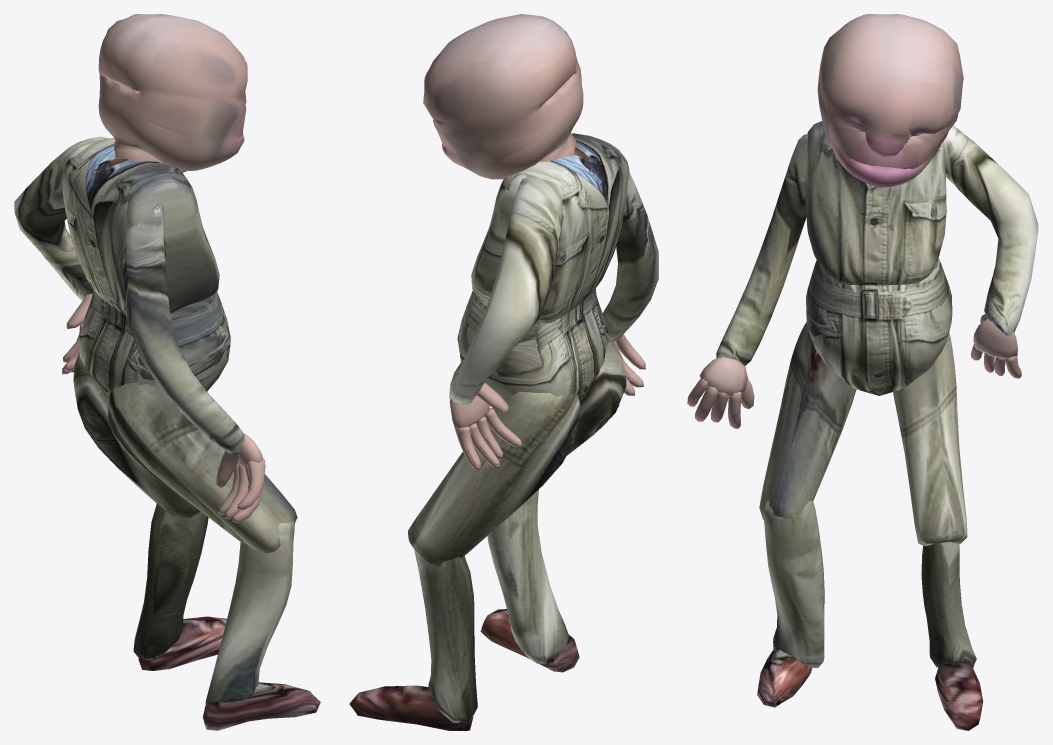
The model's file is SM_Albin00.fbx.
3 views of the same model, side by side, from view 1: azimuth 30°, elevation 25°; view 2: azimuth 150°, elevation 25°; view 3: azimuth 270°, elevation 25° (orthographic). The views are drawn at different scales.
Visible parts, largest first — view 1: SM_Albin00, SM_Amir00.013; view 2: SM_Albin00, SM_Amir00.013; view 3: SM_Albin00, SM_Amir00.013.
Boxes of the visible parts, x1,y1,x2,y2 form: SM_Albin00: (14, 136, 320, 730); SM_Amir00.013: (62, 14, 265, 522); SM_Albin00: (349, 133, 658, 730); SM_Amir00.013: (423, 14, 645, 470); SM_Albin00: (716, 121, 1038, 730); SM_Amir00.013: (687, 14, 1021, 428).
Bounding box in the file's own units: 79.7 × 248 × 120.
